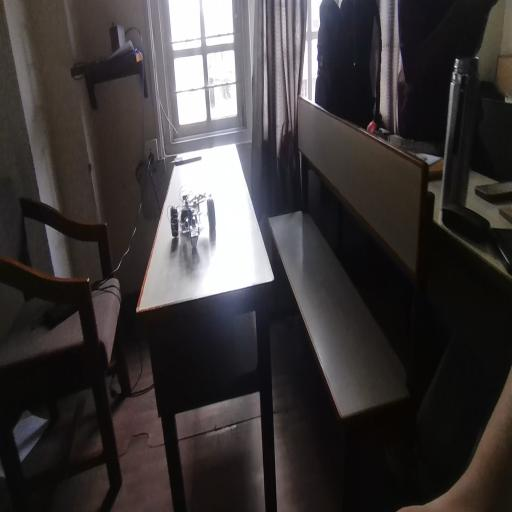car: (168, 172, 226, 284)
